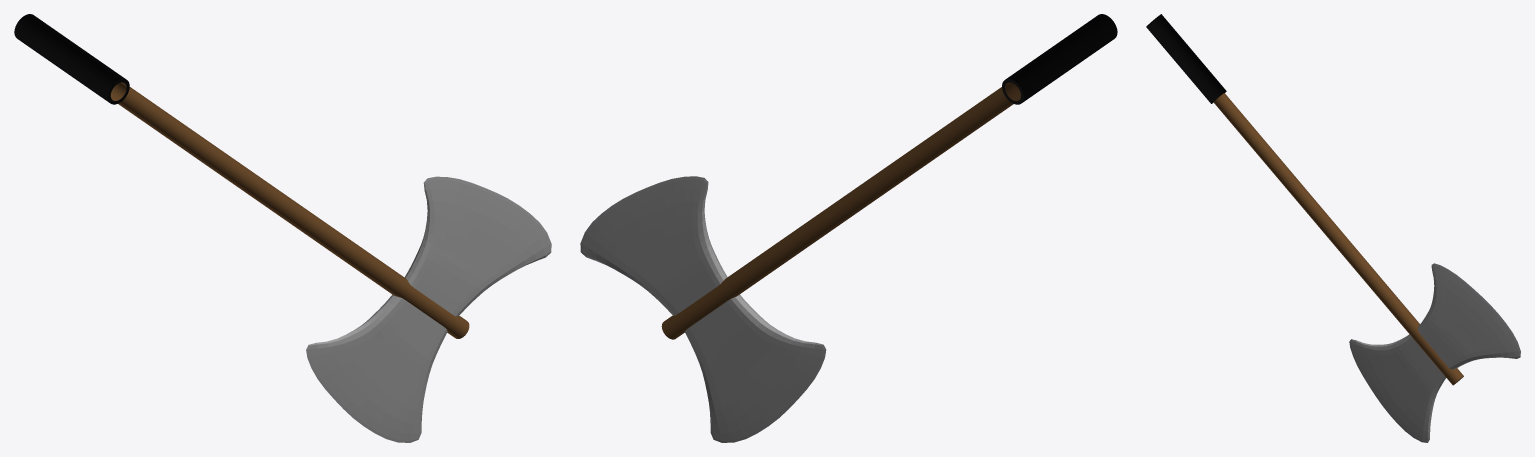
File: Axe.fbx
3 views of the same model, side by side, from view 1: azimuth 30°, elevation 25°; view 2: azimuth 150°, elevation 25°; view 3: azimuth 330°, elevation 25° (orthographic). The views are drawn at different scales.
Visible parts, largest first — view 1: Axe; view 2: Axe; view 3: Axe.
Boxes of the visible parts, box(x1,y1,x2,y2) form: Axe: box(14, 14, 551, 442); Axe: box(580, 14, 1117, 442); Axe: box(1146, 14, 1520, 442).
Size of the model in its own units: 753 by 700 by 35.29.
